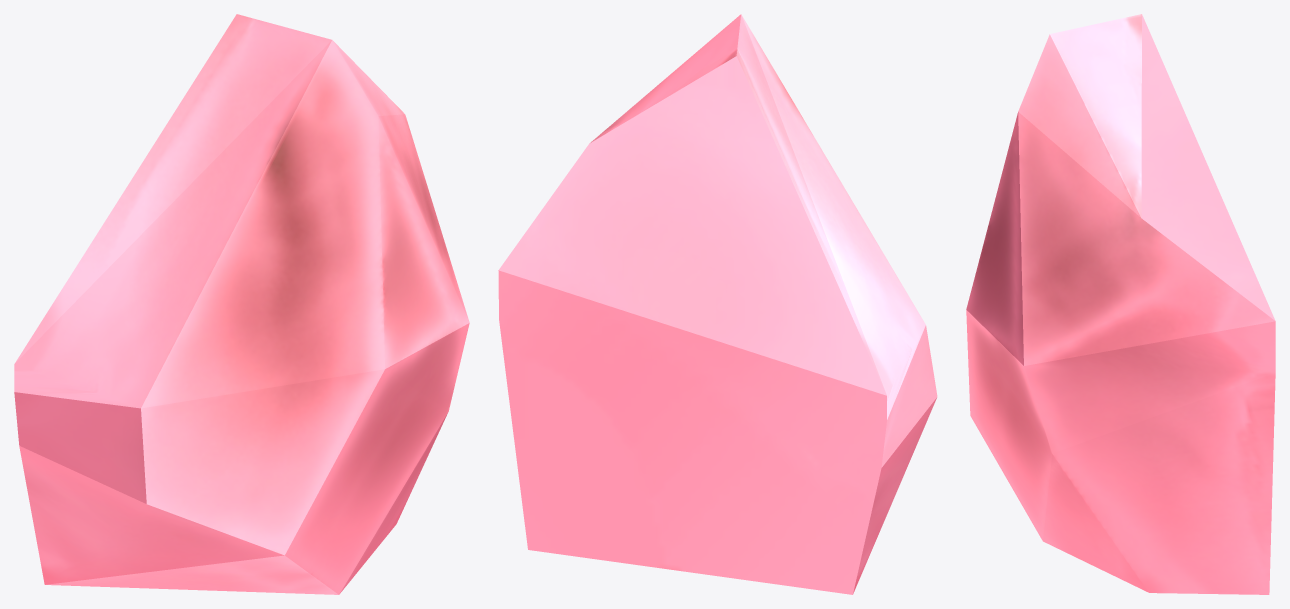
File: crystal_red_single5.fbx
The picture shows the model from 3 angles, left to right: view 1: azimuth 30°, elevation 25°; view 2: azimuth 150°, elevation 25°; view 3: azimuth 270°, elevation 25°; orthographic projection. The views are drawn at different scales.
Visible parts, largest first — view 1: crystal_red_single_005; view 2: crystal_red_single_005; view 3: crystal_red_single_005.
Part boxes in pixels (box(x1,y1,x2,y2)): crystal_red_single_005: box(14, 14, 469, 594); crystal_red_single_005: box(498, 14, 937, 594); crystal_red_single_005: box(966, 14, 1275, 594).
Bounding box in the file's own units: 0.5047 × 0.6746 × 0.374.
